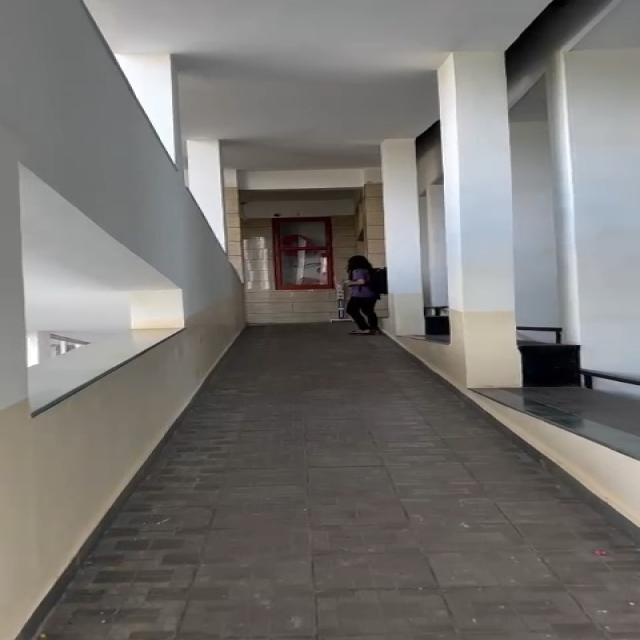floor: (213, 353, 547, 640)
moving_object: (318, 251, 411, 345)
wall: (0, 27, 251, 464), (355, 32, 639, 244)
